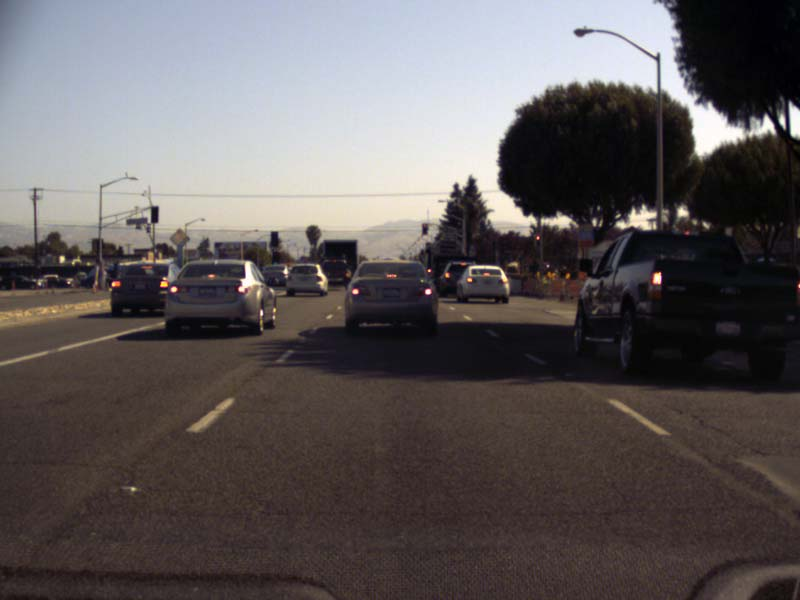Green: (274, 253, 278, 266)
Red: (536, 235, 539, 245), (423, 224, 426, 233)
